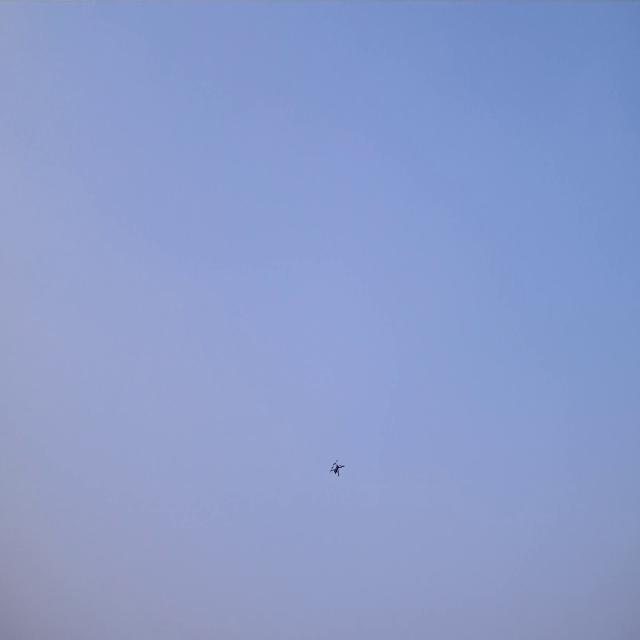UAV: (328, 458, 347, 476)
